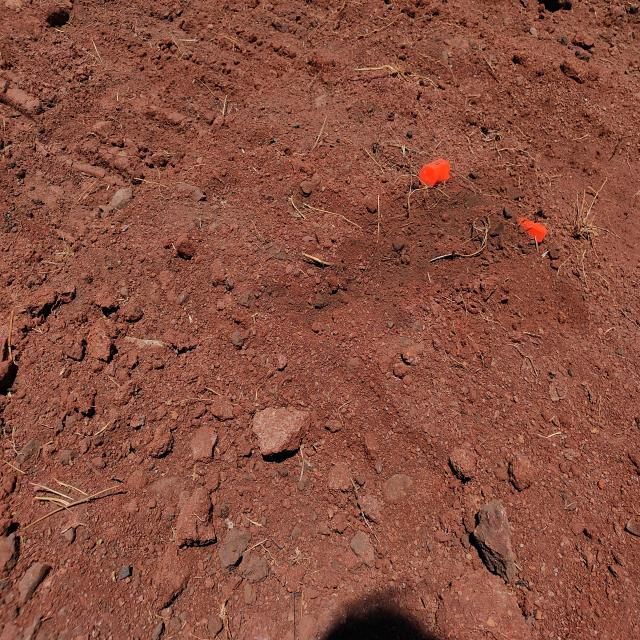Orange_hammer: (517, 216, 547, 249), (419, 158, 452, 187)
